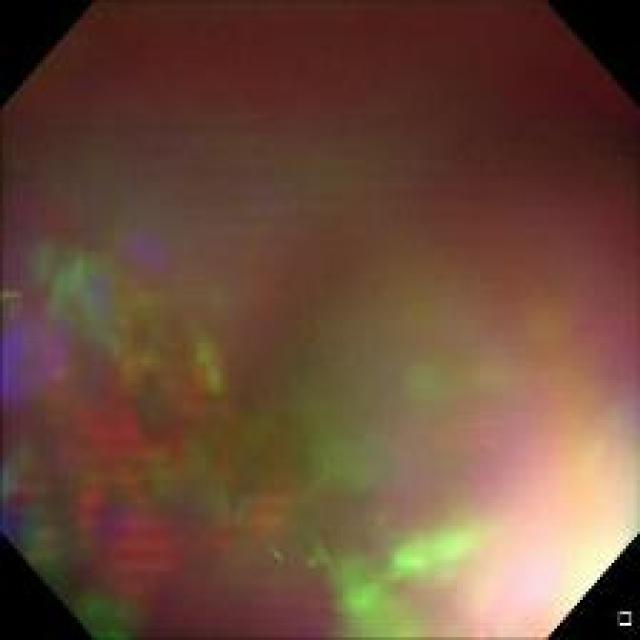color misalignment: (6, 11, 630, 625), (8, 225, 479, 631)
